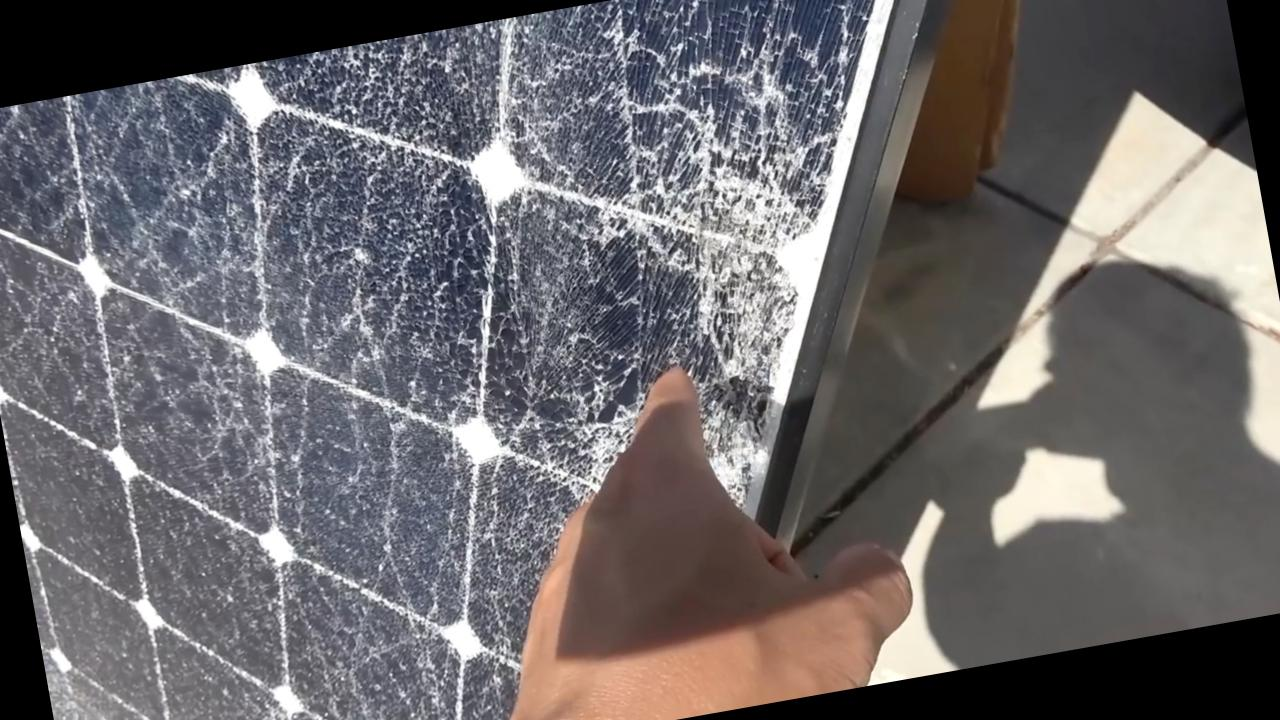Crack: (67, 42, 491, 476), (159, 458, 500, 719), (507, 0, 818, 275), (510, 285, 638, 418), (664, 255, 798, 366)
